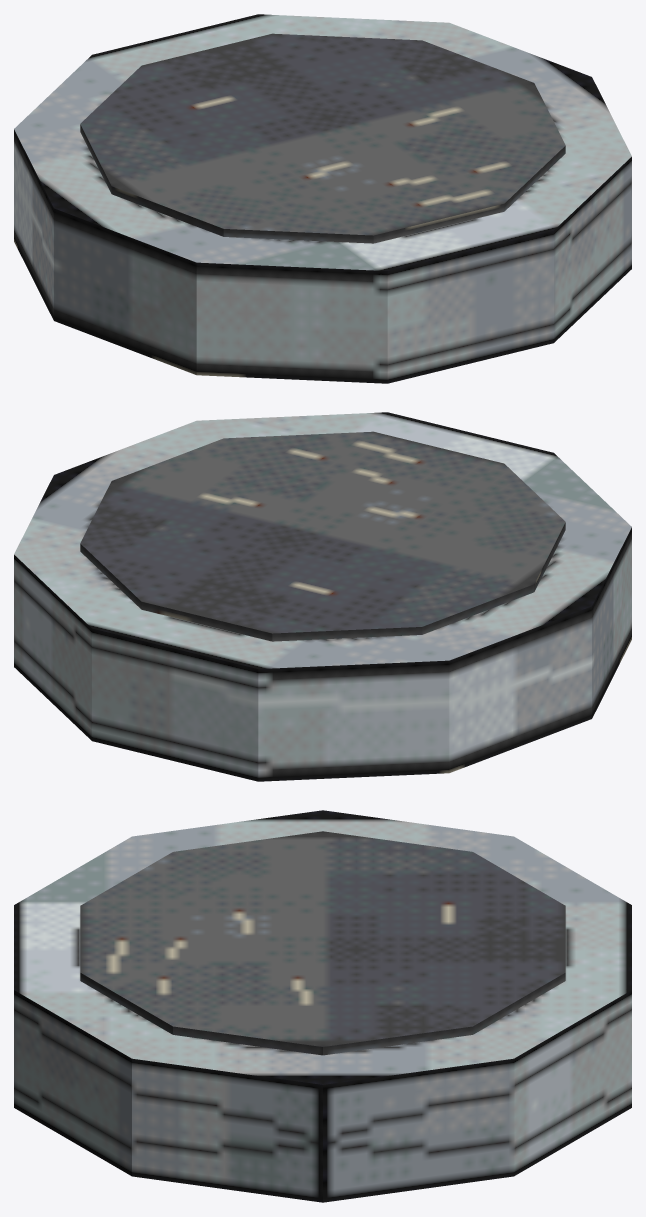
Rendered from SM_Ashtray_01.fbx.
3 renders of one model, top to bottom at view 1: azimuth 30°, elevation 25°; view 2: azimuth 150°, elevation 25°; view 3: azimuth 270°, elevation 25°, orthographic. The views are drawn at different scales.
Visible parts, largest first — view 1: SM_Ashtray_01; view 2: SM_Ashtray_01; view 3: SM_Ashtray_01.
Part boxes in pixels (x1,y1,x2,y2): SM_Ashtray_01: (14,14,631,383); SM_Ashtray_01: (14,412,631,781); SM_Ashtray_01: (14,810,631,1202).
Size of the model in its own units: 0.14 by 0.03 by 0.1331.
Materials: 1 (1 with a texture image).
